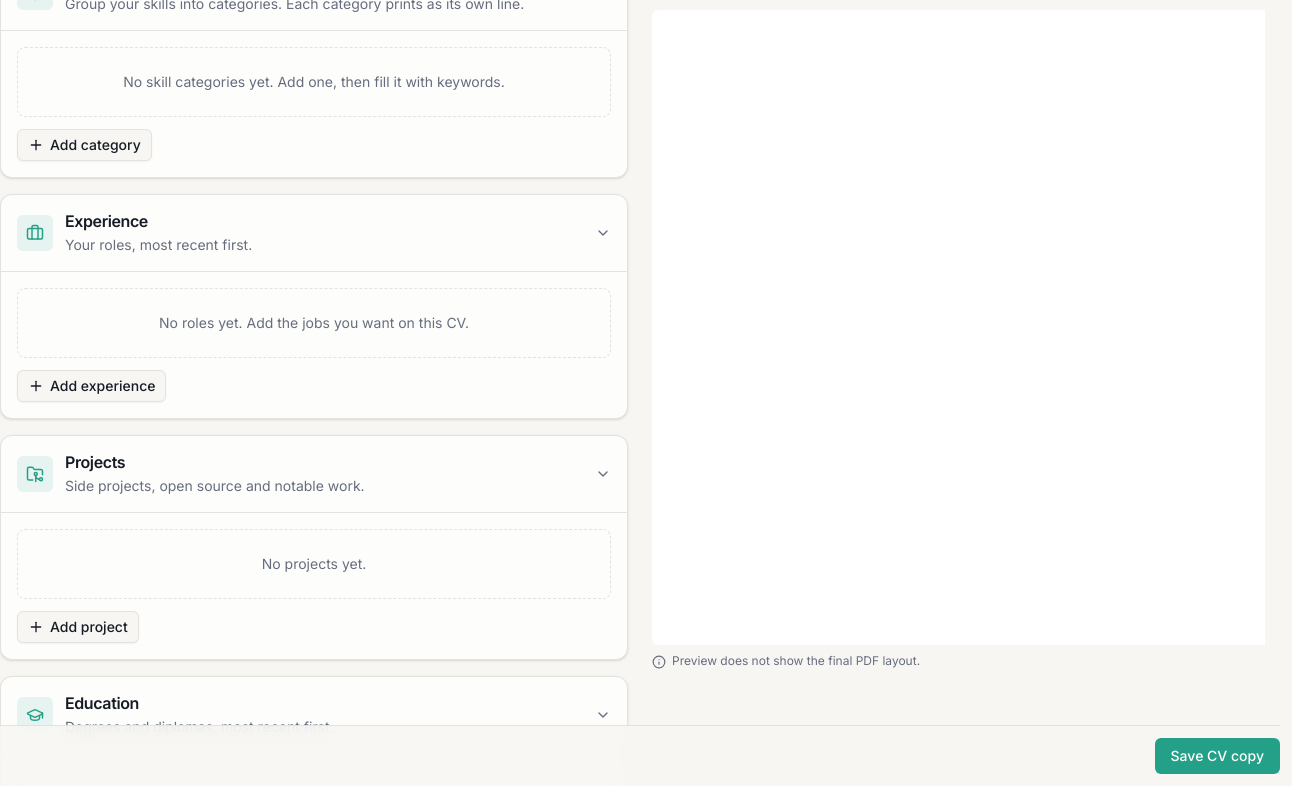
Test: the CV copy carries the same sections as a master CV › asks the copy for the same required start and optional finish
(page scrolled)
Click the button "Add experience" at (92, 386), box [17, 370, 166, 402]
(page scrolled)
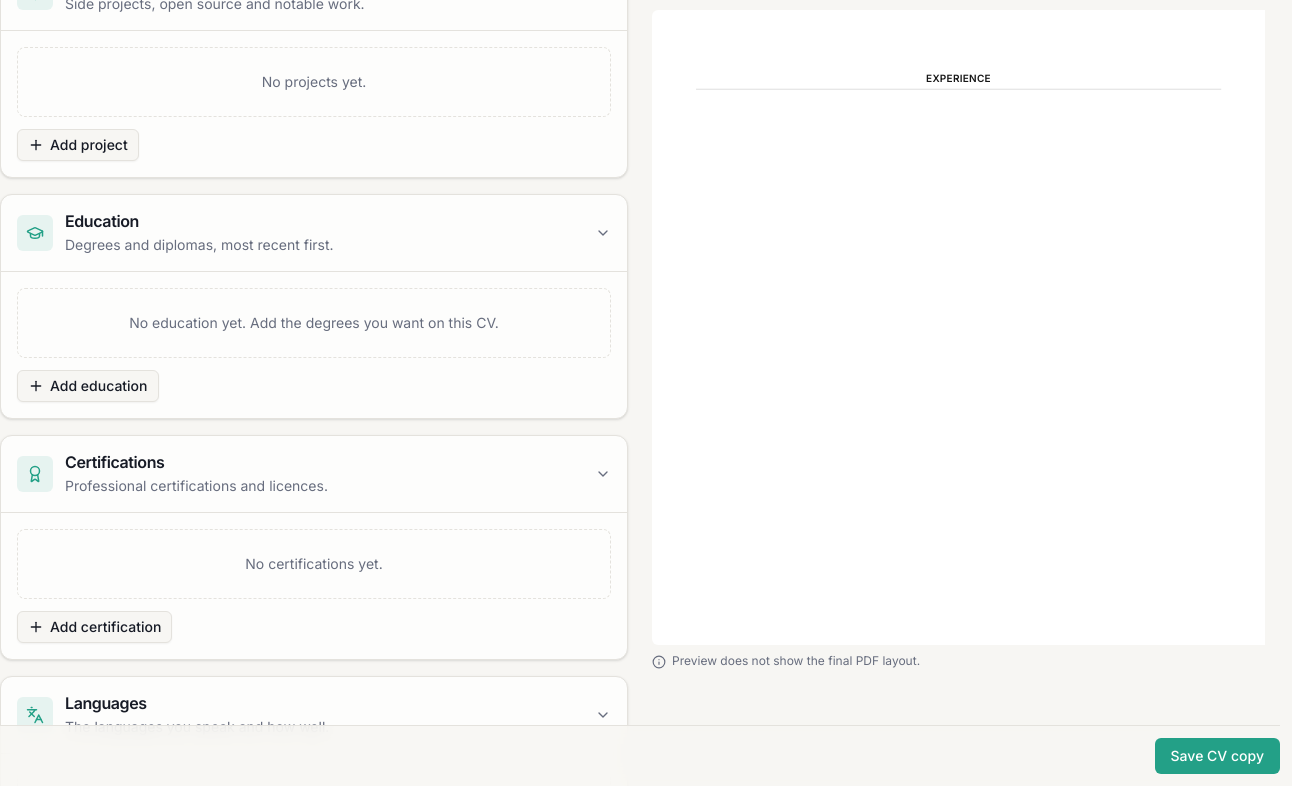
Click the button "Add education" at (88, 386), box [17, 370, 158, 402]
(page scrolled)
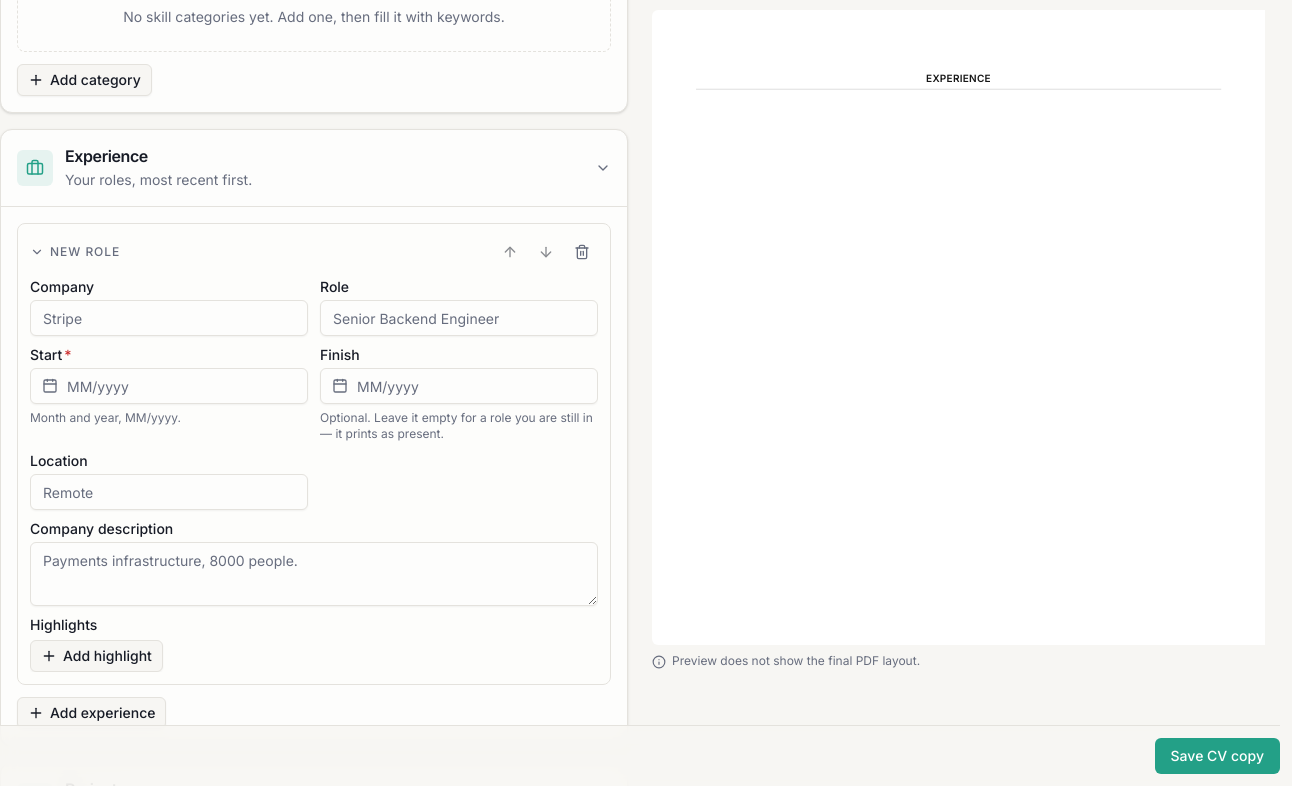
Type "022023" into the field labelled "Start" at (169, 386), box [30, 368, 308, 404]
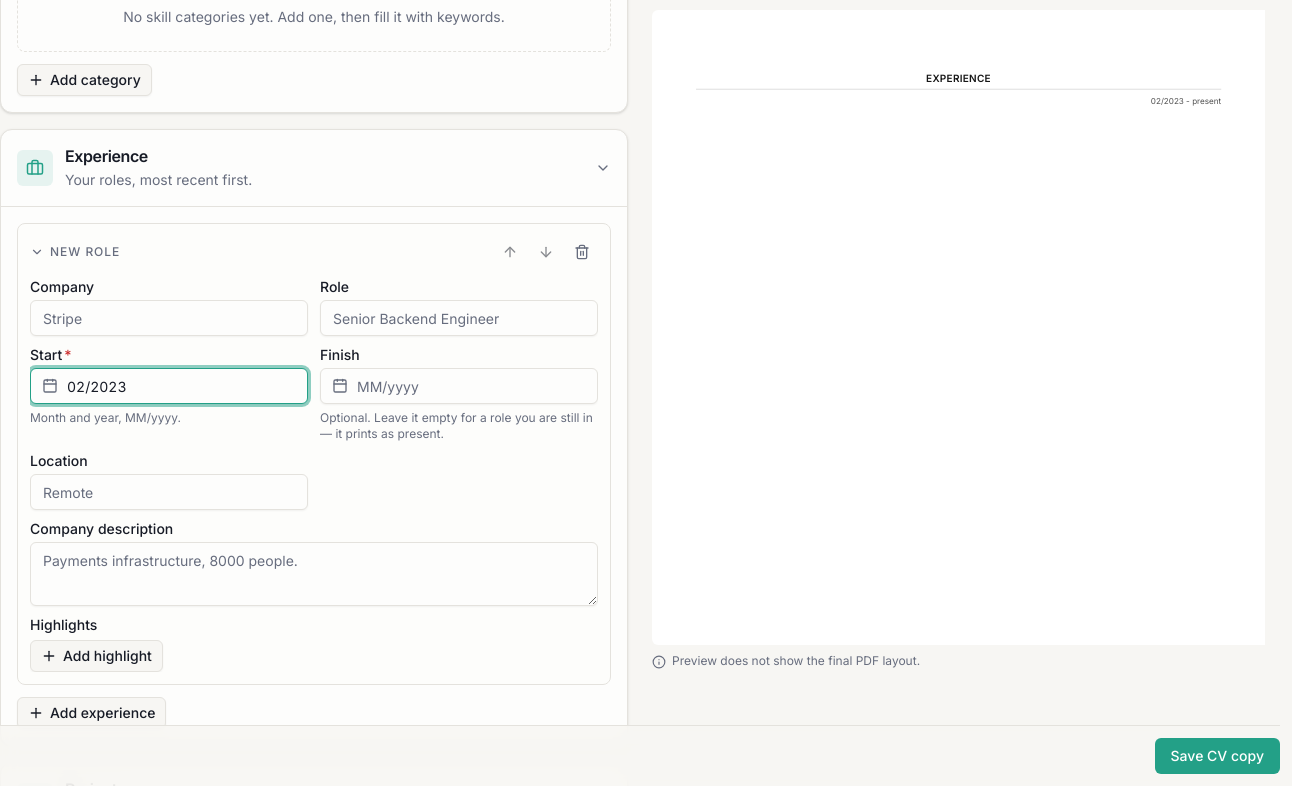
Now the field labelled "Start" holds "02/2023", box [30, 368, 308, 404]
